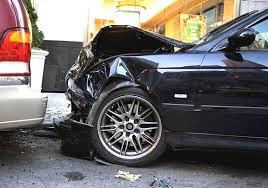bonnet-dent: (76, 25, 188, 53)
fender-dent: (74, 53, 174, 100)
